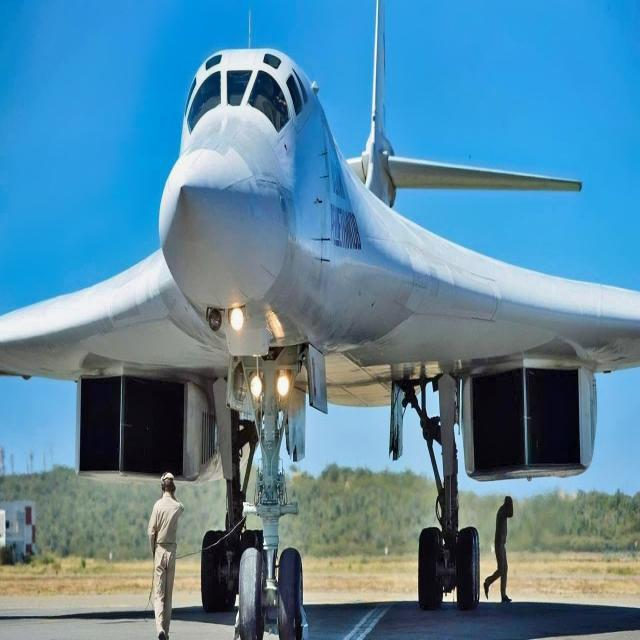Tu160: (15, 0, 640, 632)
